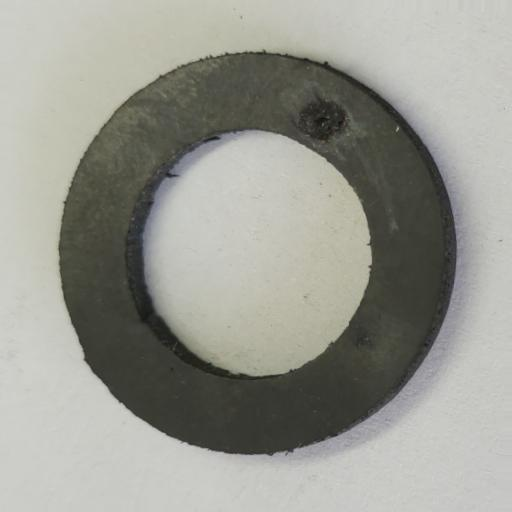defect: (296, 97, 349, 141)
